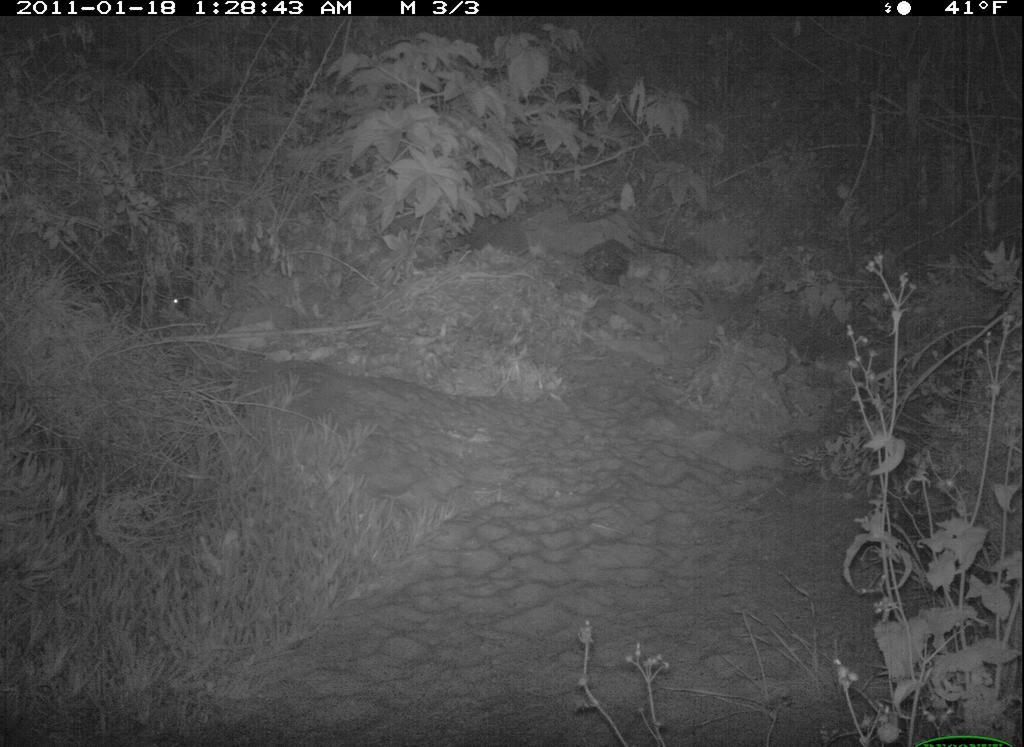rabbit: (131, 264, 225, 340)
